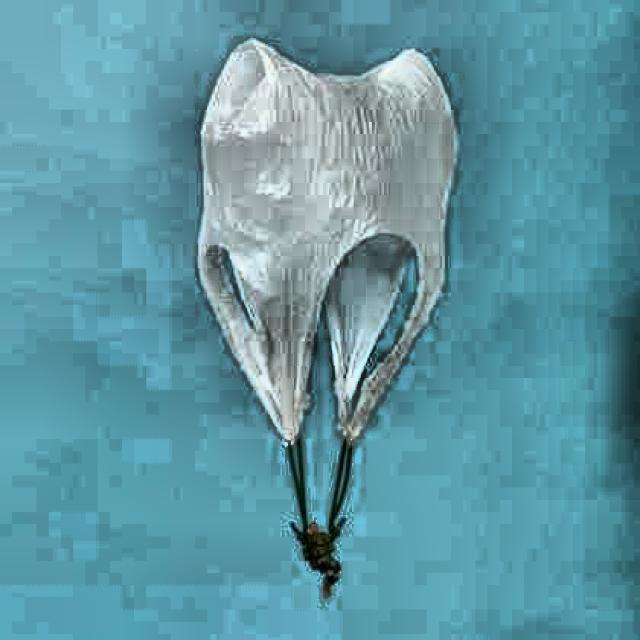Plastic: (190, 22, 455, 450)
